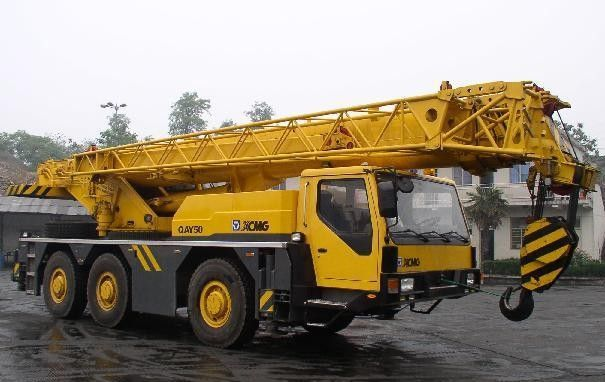crane: (11, 86, 573, 349)
